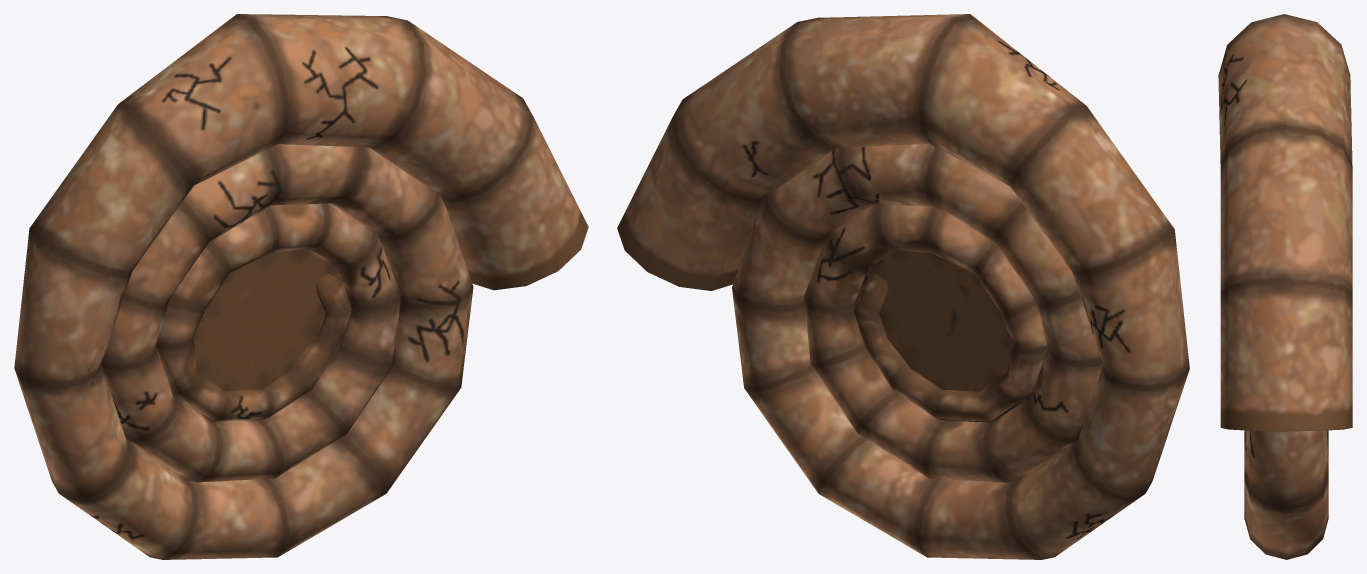
File: Ammonite.fbx
3 views of the same model, side by side, from view 1: azimuth 30°, elevation 25°; view 2: azimuth 150°, elevation 25°; view 3: azimuth 270°, elevation 25° (orthographic). The views are drawn at different scales.
Parts seen in each view (by area): view 1: Spiral.004; view 2: Spiral.004; view 3: Spiral.004.
Part boxes in pixels (x1=…): Spiral.004: x1=14, y1=14, x2=588, y2=559; Spiral.004: x1=617, y1=14, x2=1189, y2=559; Spiral.004: x1=1218, y1=14, x2=1352, y2=559.
Bounding box in the file's own units: 42.02 × 38.86 × 9.02.
